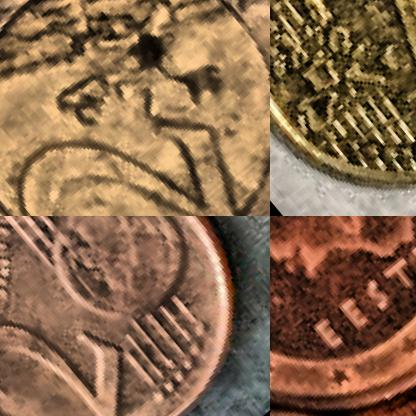coin: (0, 0, 269, 215), (0, 216, 269, 415), (270, 0, 415, 215), (270, 216, 415, 415)
